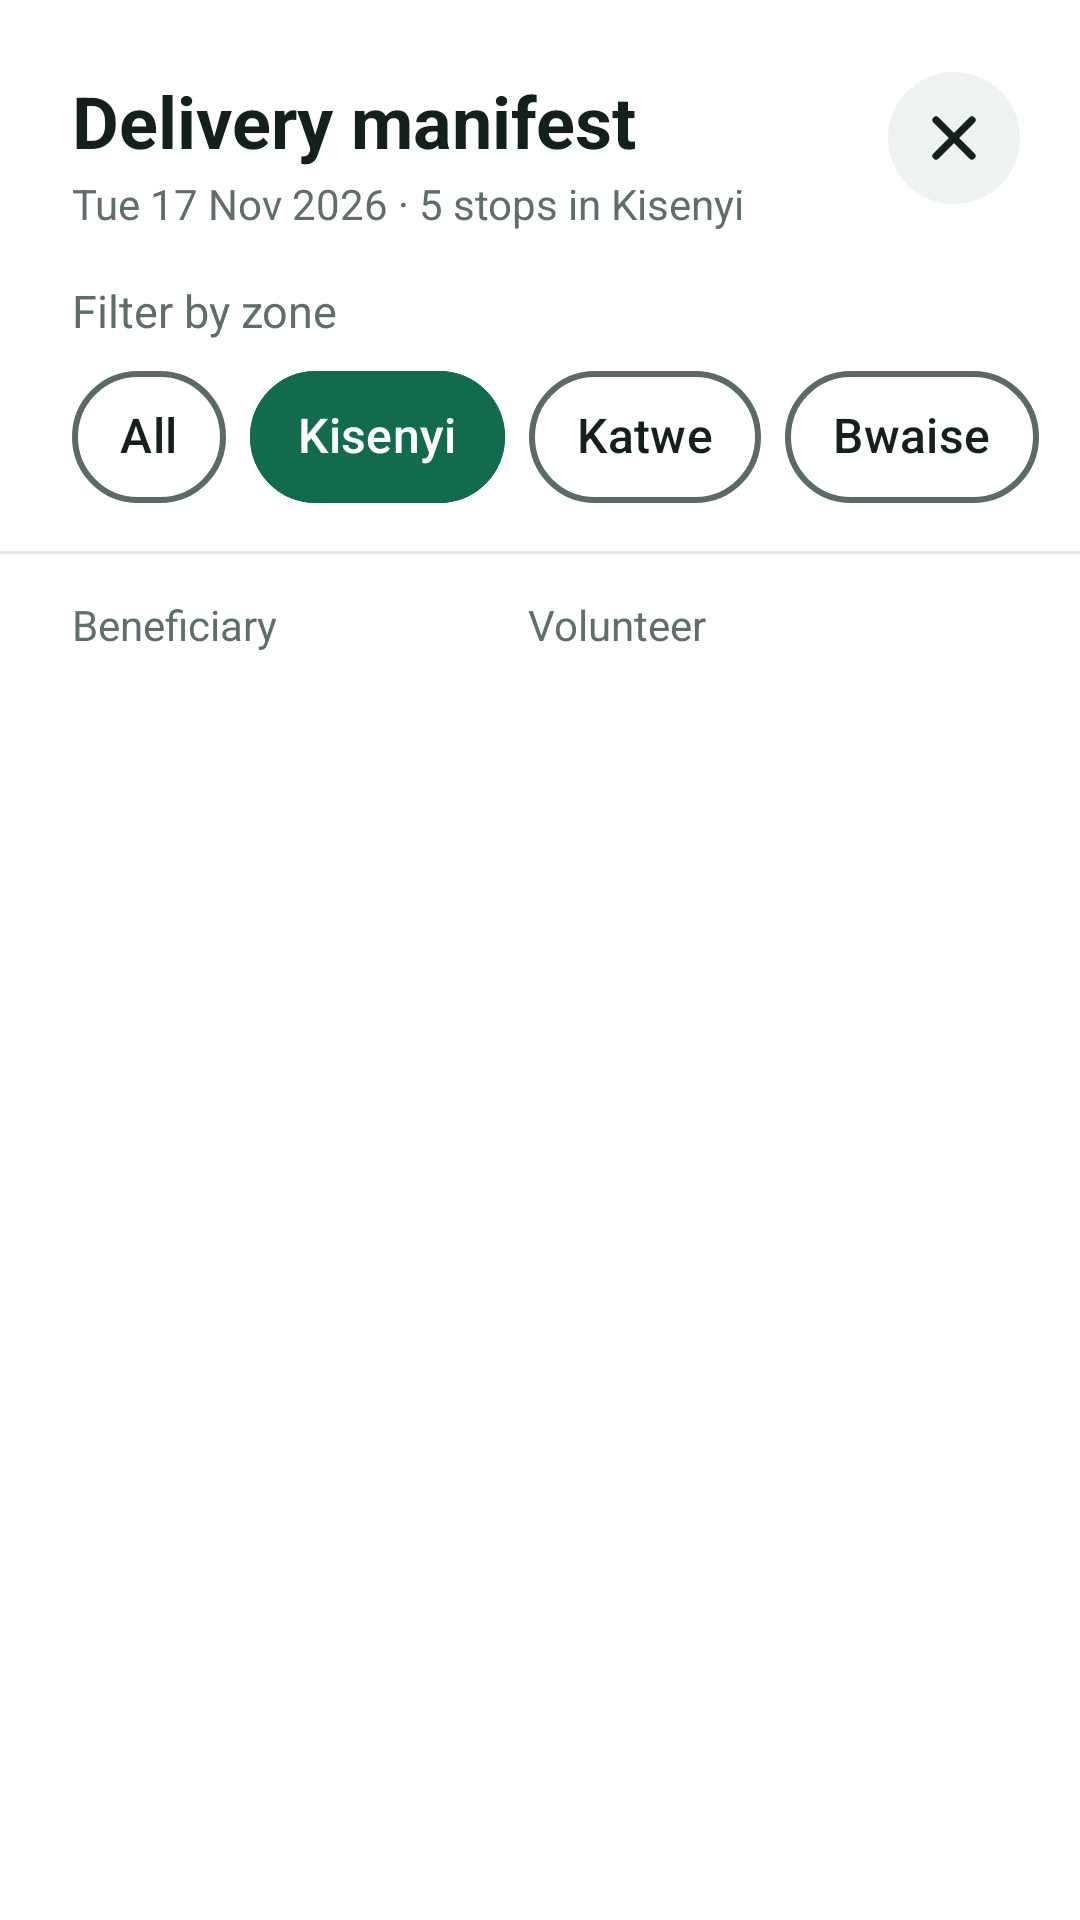

Where to tap for icons on this 1080px x 1920px app screen, as (x=x, y=y):
Close manifest: (x=954, y=138)
